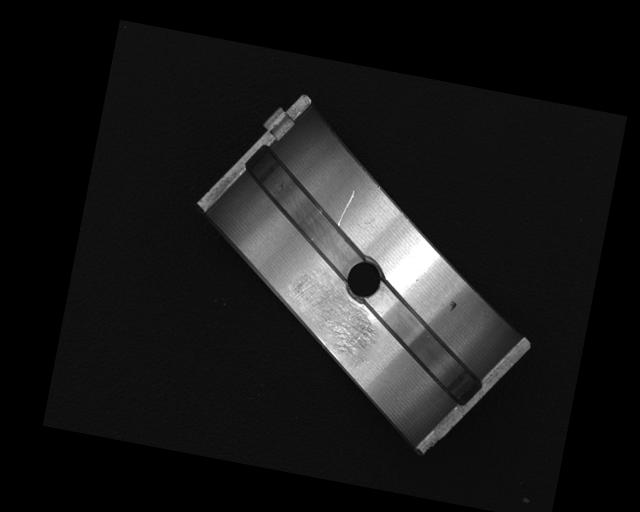bruise: (447, 299, 458, 313)
gap: (231, 150, 383, 275), (353, 284, 497, 405)
hole: (342, 256, 387, 302)
nick: (337, 187, 354, 228)
scratch: (279, 264, 384, 358)
